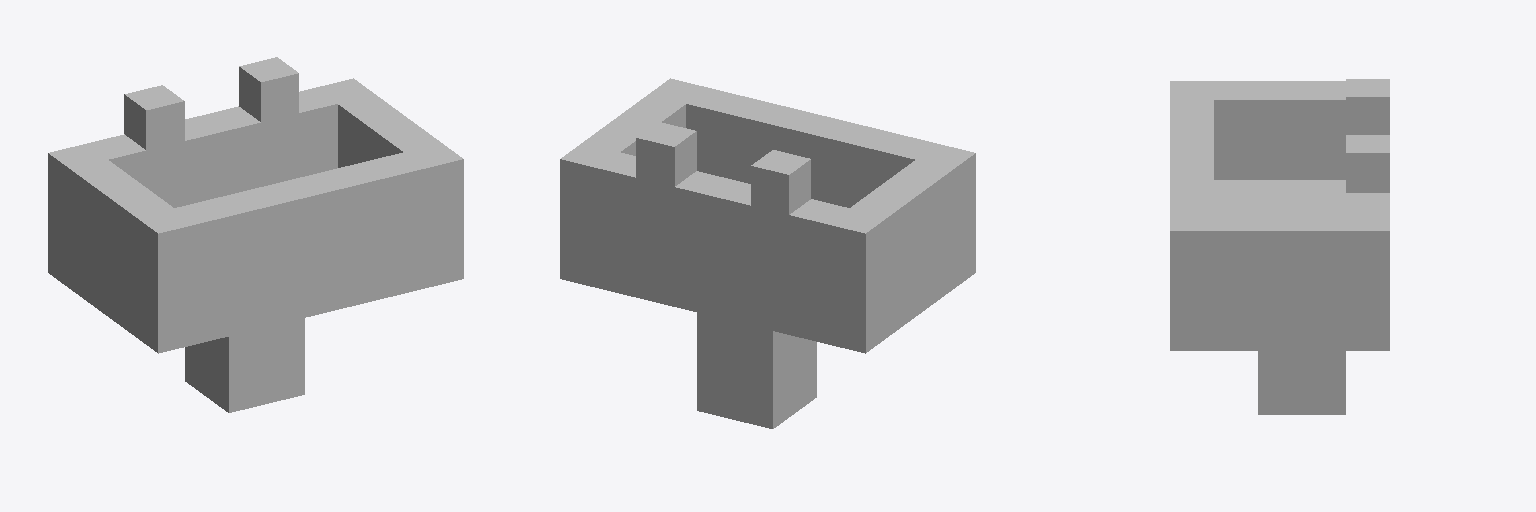
Rendered from sink.obj.
3 views of the same model, side by side, from view 1: azimuth 30°, elevation 25°; view 2: azimuth 150°, elevation 25°; view 3: azimuth 270°, elevation 25° (orthographic).
Parts seen in each view (by area): view 1: object 1; view 2: object 1; view 3: object 1.
Part boxes in pixels (left/top/right/bottom): object 1: left=48, top=57, right=463, bottom=412; object 1: left=560, top=78, right=975, bottom=428; object 1: left=1170, top=79, right=1389, bottom=414.
Bounding box in the file's own units: 0.8 × 0.7 × 0.5.